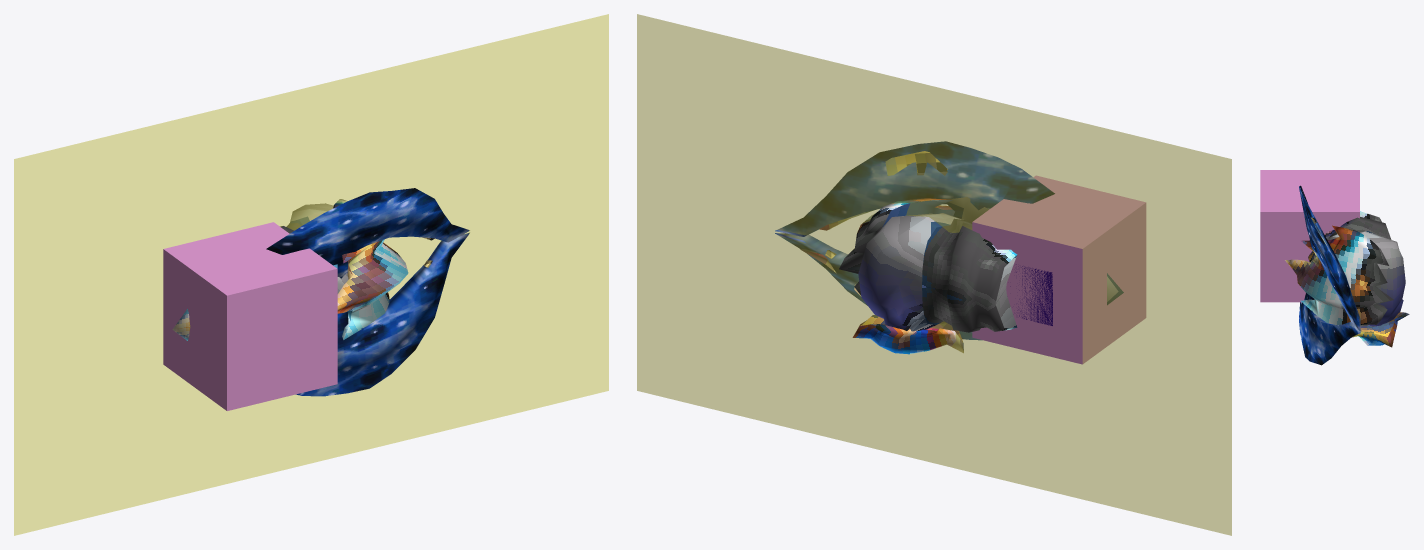
3 renders of one model, left to right at view 1: azimuth 30°, elevation 25°; view 2: azimuth 150°, elevation 25°; view 3: azimuth 270°, elevation 25°, orthographic. The views are drawn at different scales.
Visible parts, largest first — view 1: object0065_Plane, object0100_Box, object0016_Object03, object0031_Object06, object0005_W344, object0034_Object07; view 2: object0065_Plane, object0100_Box, object0005_W344, object0045_Object08, object0034_Object07, object0103_Box; view 3: object0005_W344, object0100_Box, object0031_Object06, object0016_Object03, object0045_Object08.
Boxes of the visible parts, x1,y1,x2,y2 form: object0065_Plane: (14, 14, 608, 535); object0100_Box: (163, 222, 337, 410); object0016_Object03: (266, 188, 469, 278); object0031_Object06: (296, 233, 469, 396); object0005_W344: (172, 199, 434, 340); object0034_Object07: (364, 233, 468, 327); object0065_Plane: (637, 14, 1231, 535); object0100_Box: (972, 175, 1146, 364); object0005_W344: (800, 151, 1123, 354); object0045_Object08: (775, 141, 1054, 236); object0034_Object07: (775, 233, 981, 340); object0103_Box: (1010, 264, 1052, 325); object0005_W344: (1285, 211, 1409, 347); object0100_Box: (1260, 170, 1359, 302); object0031_Object06: (1299, 293, 1359, 365); object0016_Object03: (1299, 186, 1359, 330); object0045_Object08: (1299, 185, 1360, 330).
Bounding box in the file's own units: 2 × 1.21 × 0.5569.
